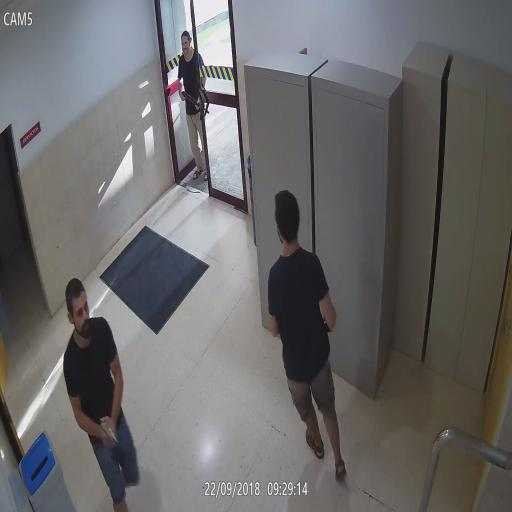Handgun: (98, 415, 118, 451)
